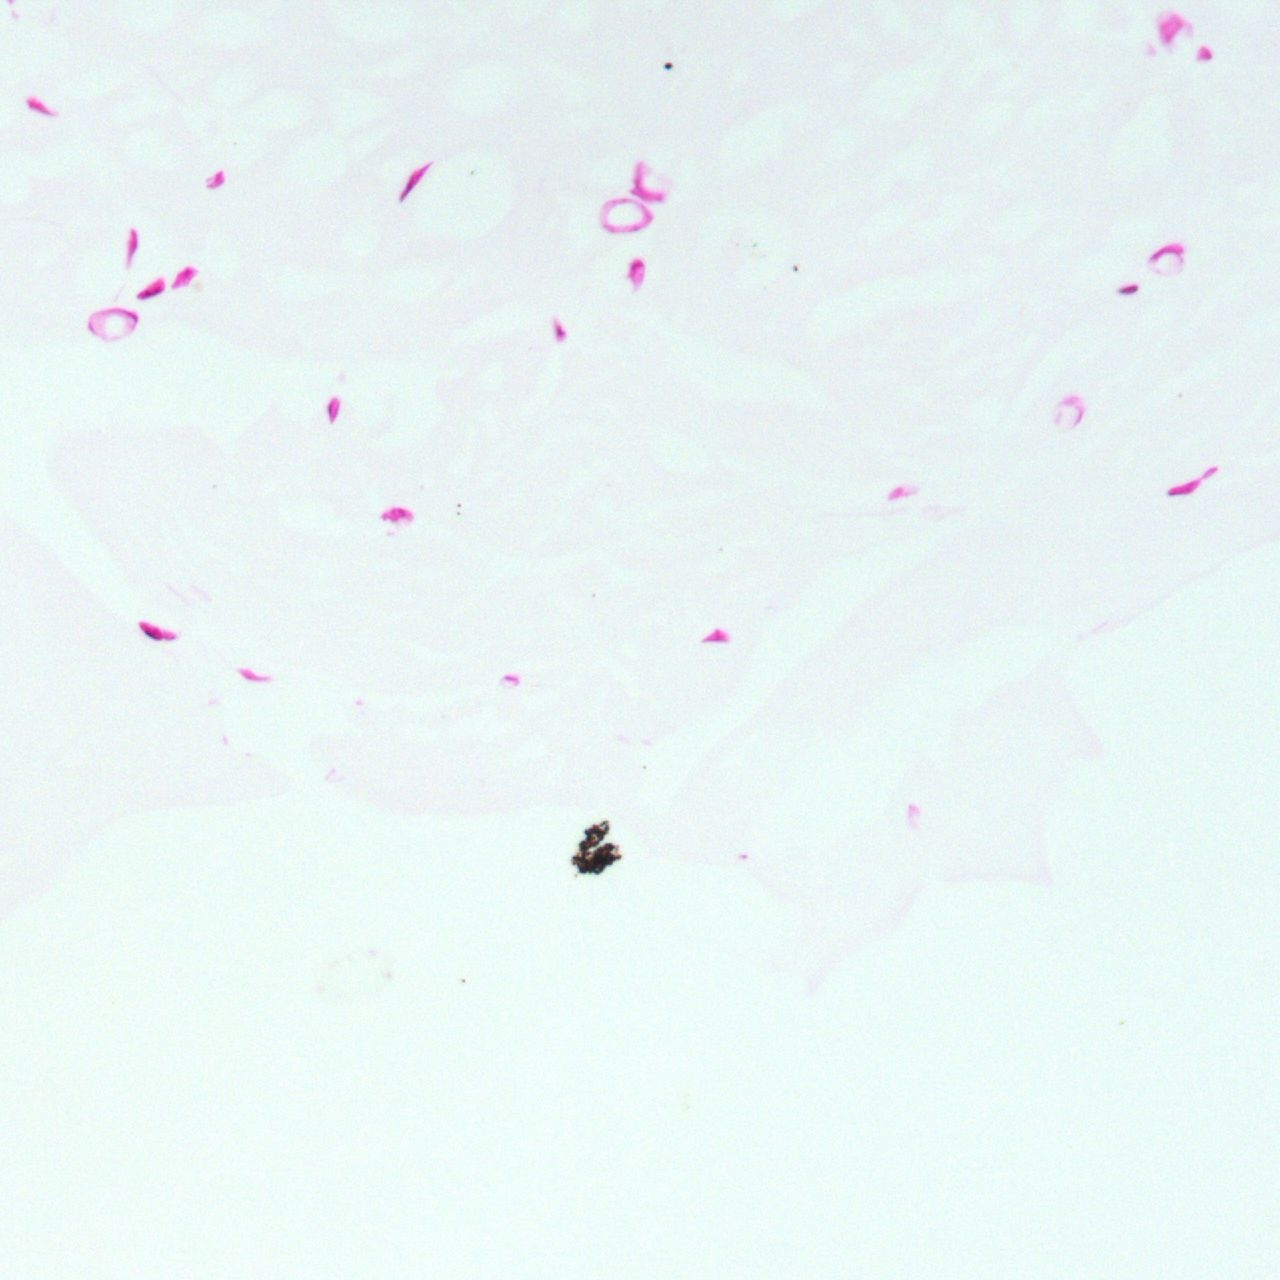dust: (558, 814, 631, 884), (1119, 281, 1140, 296), (663, 61, 672, 70), (794, 265, 797, 272)
nucleus-FG: (1167, 465, 1222, 501), (393, 160, 431, 204), (135, 615, 168, 644), (134, 277, 167, 304), (126, 227, 139, 262), (630, 259, 644, 283), (553, 319, 565, 341)
